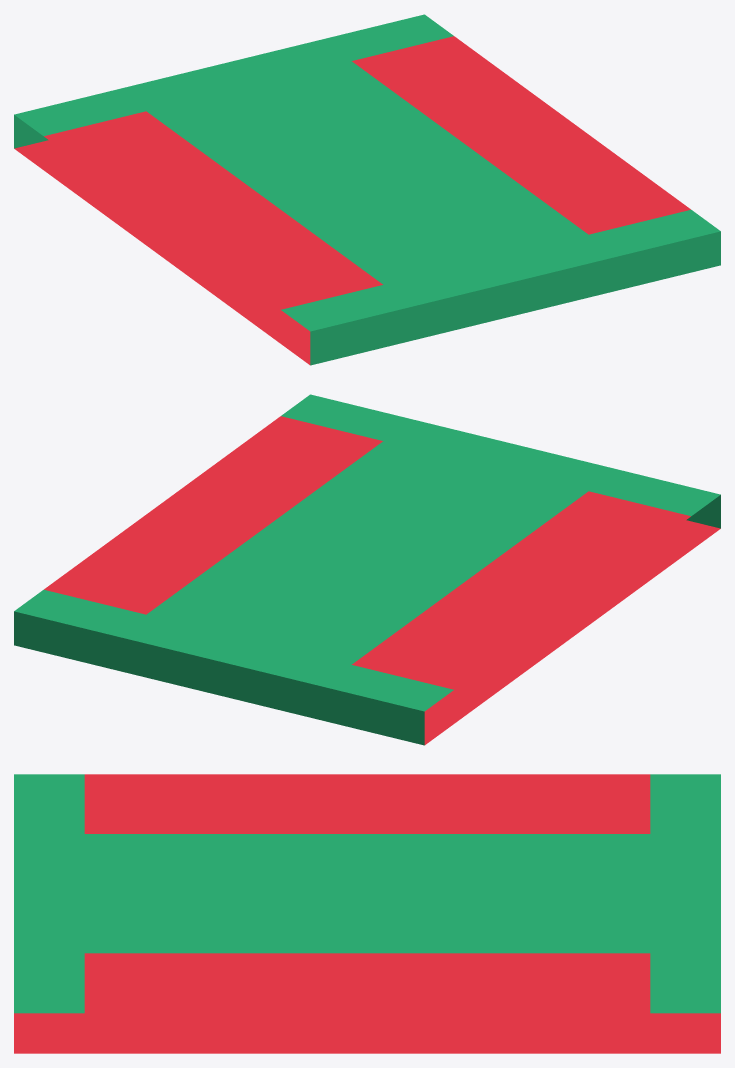
File: Piso 7.FBX
3 views of the same model, one above another, from view 1: azimuth 30°, elevation 25°; view 2: azimuth 150°, elevation 25°; view 3: azimuth 270°, elevation 25° (orthographic). The views are drawn at different scales.
Visible parts, largest first — view 1: tunnelWide; view 2: tunnelWide; view 3: tunnelWide.
Part boxes in pixels (box(x1,y1,x2,y2)): tunnelWide: box(14, 14, 720, 365); tunnelWide: box(14, 394, 720, 745); tunnelWide: box(14, 774, 720, 1053).
Size of the model in its own units: 79.99 by 6.33 by 99.99.
